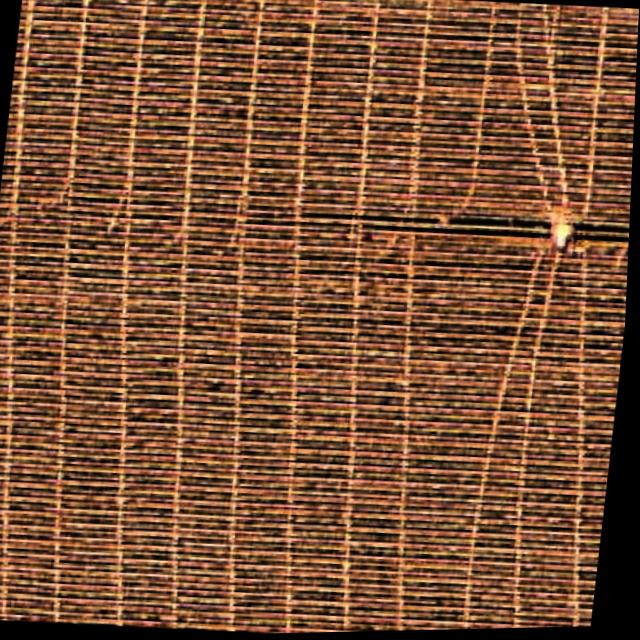Stitch: (480, 89, 621, 390)
